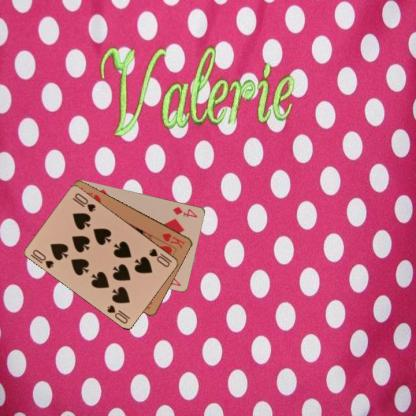10s: (30, 247, 56, 270), (147, 246, 173, 268)
4d: (170, 204, 199, 218)
Kh: (160, 231, 186, 250)
